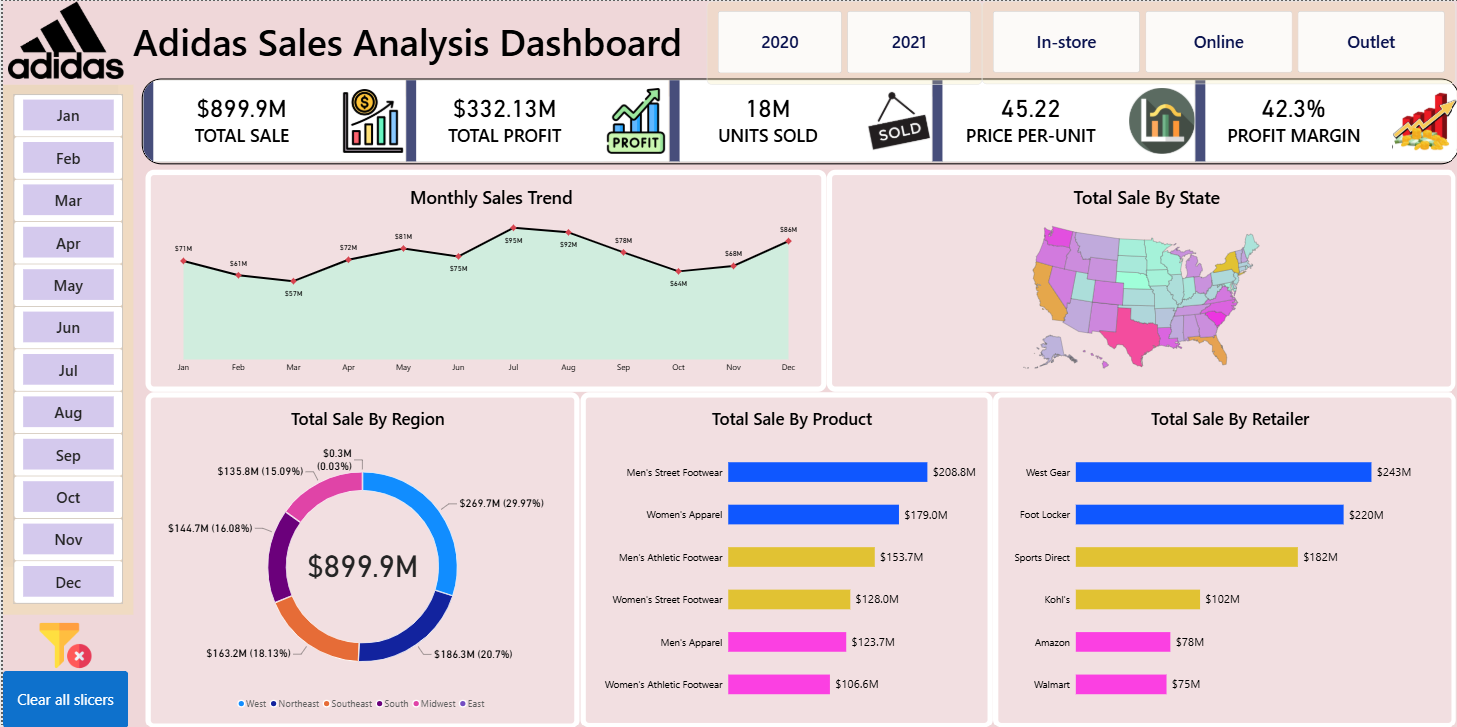

What the dashboard file says about the page in this screenshot:
{"tool":"powerbi","page":{"name":"Page 1","canvas":[2200,1200],"ordinal":0},"visuals":[{"type":"cardVisual","fields":{"Data":["Data Sales Adidas.Total Sale","Data Sales Adidas.Total_Profit","Data Sales Adidas.Total_Units_sold","Data Sales Adidas.Avg_Price_Per_Unit","Data Sales Adidas.Profit_Margin"]},"box":[209.8,117.6,1990.2,129.4],"z":0},{"type":"image","box":[7.4,0,174.1,118.5],"z":1000},{"type":"textbox","box":[174,22,874,84],"z":2000},{"type":"shape","box":[0,125.9,174.1,727.8],"z":3000},{"type":"areaChart","title":"Monthly Sales Trend","fields":{"Y":["Data Sales Adidas.Total Sale"],"Category":["Data Sales Adidas.Month Wise"]},"box":[214.8,255.6,1027.8,335.2],"z":4000},{"type":"shapeMap","title":"Total Sale By State","fields":{"Category":["Data Sales Adidas.State"],"Value":["Data Sales Adidas.Total Sale"]},"box":[1242.6,255.6,950,335.2],"z":5000},{"type":"clusteredBarChart","title":"Total Sale By Product","fields":{"Category":["Data Sales Adidas.Product"],"Y":["Data Sales Adidas.Total Sale"]},"box":[872.2,590.7,622.2,507.4],"z":6000},{"type":"clusteredBarChart","title":"Total Sale By Retailer","fields":{"Category":["Data Sales Adidas.Retailer"],"Y":["Data Sales Adidas.Total Sale"]},"box":[1494.4,590.7,700,507.4],"z":7000},{"type":"donutChart","title":"Total Sale By Region","fields":{"Category":["Data Sales Adidas.Region"],"Y":["Data Sales Adidas.Total Sale"]},"box":[215,590,655,508.3],"z":8000},{"type":"advancedSlicerVisual","fields":{"Values":["Data Sales Adidas.Month Wise"]},"box":[0,125.9,197,800],"z":9000},{"type":"advancedSlicerVisual","fields":{"Values":["Data Sales Adidas.Invoice Date.Variation.Date Hierarchy.Year"]},"box":[1062,0,416,126],"z":10000},{"type":"image","box":[0,933.3,188.9,77.8],"z":11000},{"type":"actionButton","box":[0,1011.1,188.9,87],"z":12000},{"type":"advancedSlicerVisual","fields":{"Values":["Data Sales Adidas.Sales Method"]},"box":[1477.8,0,716.7,125.9],"z":13000}]}

Visuals, with their boxes on the page's 2200x1200 design canvas (x1, y1, x2, y2). These are canvas units, not pixel positions in the 1457x727 screenshot, which may show the page scaled, cropped or inside an application window:
cardVisual - Data Sales Adidas.Total Sale x Data Sales Adidas.Total_Profit: bbox=(210, 118, 2200, 247)
image: bbox=(7, 0, 182, 118)
textbox: bbox=(174, 22, 1048, 106)
shape: bbox=(0, 126, 174, 854)
"Monthly Sales Trend" areaChart: bbox=(215, 256, 1243, 591)
"Total Sale By State" shapeMap: bbox=(1243, 256, 2193, 591)
"Total Sale By Product" clusteredBarChart: bbox=(872, 591, 1494, 1098)
"Total Sale By Retailer" clusteredBarChart: bbox=(1494, 591, 2194, 1098)
"Total Sale By Region" donutChart: bbox=(215, 590, 870, 1098)
advancedSlicerVisual - Data Sales Adidas.Month Wise: bbox=(0, 126, 197, 926)
advancedSlicerVisual - Data Sales Adidas.Invoice Date.Variation.Date Hierarchy.Year: bbox=(1062, 0, 1478, 126)
image: bbox=(0, 933, 189, 1011)
actionButton: bbox=(0, 1011, 189, 1098)
advancedSlicerVisual - Data Sales Adidas.Sales Method: bbox=(1478, 0, 2194, 126)
